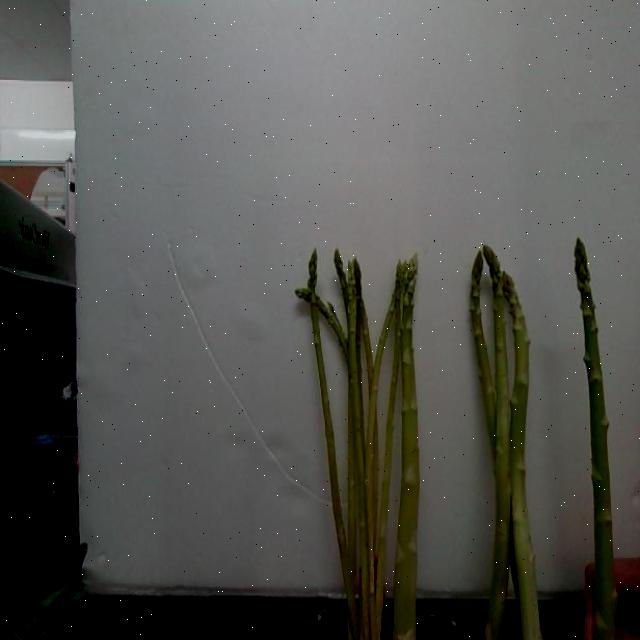aspargus: (576, 240, 615, 640), (503, 270, 541, 640)
